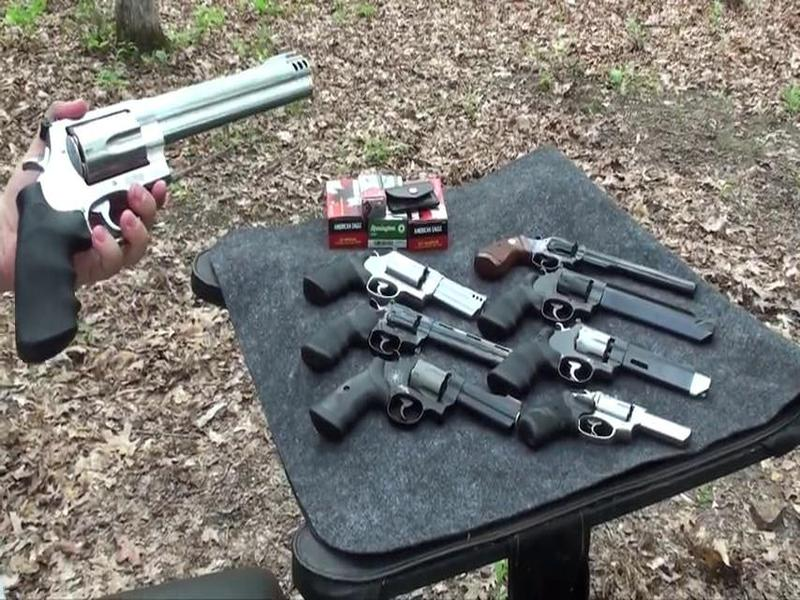Revolver: (13, 70, 317, 339), (312, 354, 515, 445), (469, 223, 701, 301), (517, 382, 699, 456)
